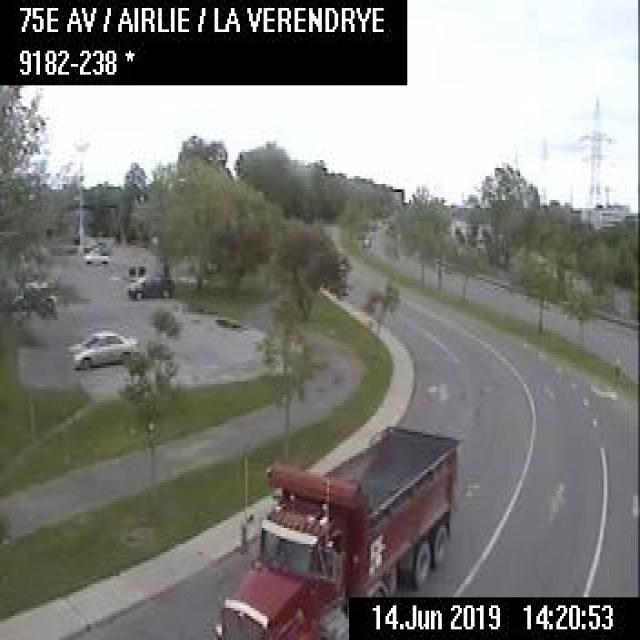vehicle: (211, 419, 460, 637), (68, 326, 138, 368), (125, 270, 171, 298), (9, 279, 55, 307), (83, 247, 110, 263)
